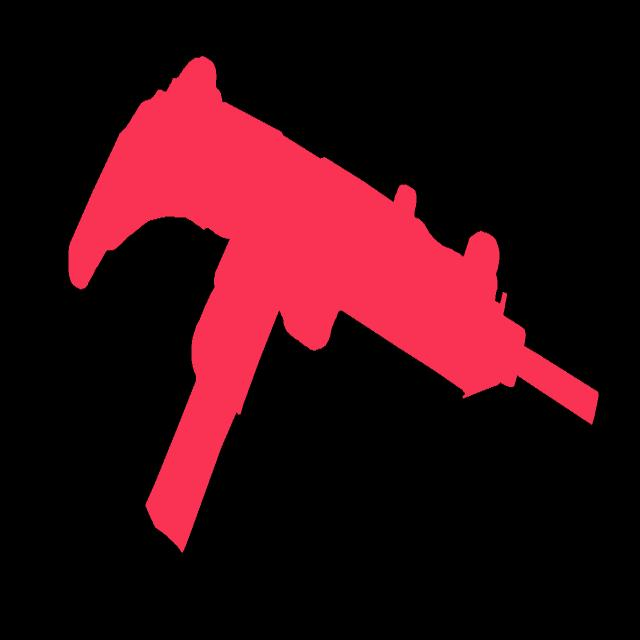firearm: (68, 53, 598, 550)
